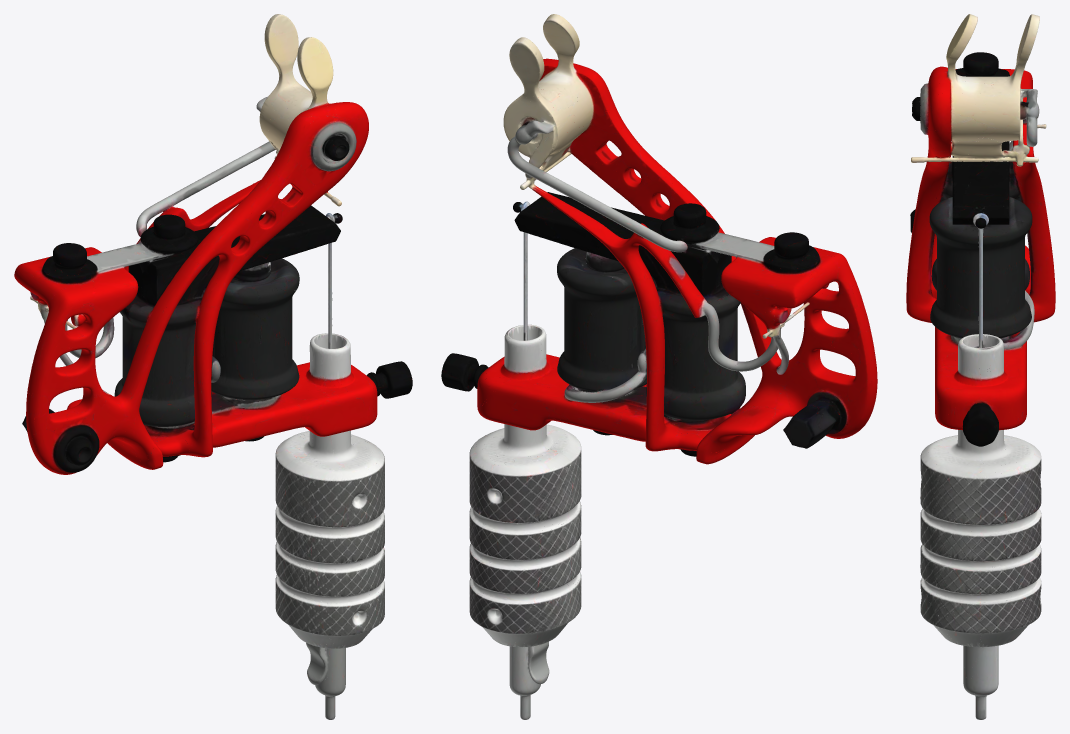
File: tattoo-machine.glb
3 views of the same model, side by side, from view 1: azimuth 30°, elevation 25°; view 2: azimuth 150°, elevation 25°; view 3: azimuth 270°, elevation 25° (orthographic). The views are drawn at different scales.
Parts seen in each view (by area): view 1: Object_5, Object_7, Object_6; view 2: Object_6, Object_5, Object_7; view 3: Object_6, Object_5, Object_7.
Part boxes in pixels (bbox=[...]): Object_5: bbox=[17, 70, 407, 647]; Object_7: bbox=[26, 37, 412, 696]; Object_6: bbox=[14, 14, 412, 719]; Object_6: bbox=[442, 37, 839, 719]; Object_5: bbox=[441, 54, 876, 658]; Object_7: bbox=[470, 14, 877, 634]; Object_6: bbox=[920, 14, 1055, 719]; Object_5: bbox=[906, 52, 1034, 647]; Object_7: bbox=[921, 14, 987, 693].
Bounding box in the file's own units: 1.14 × 1.9 × 0.3713.
Materials: 1 (1 with a texture image).
